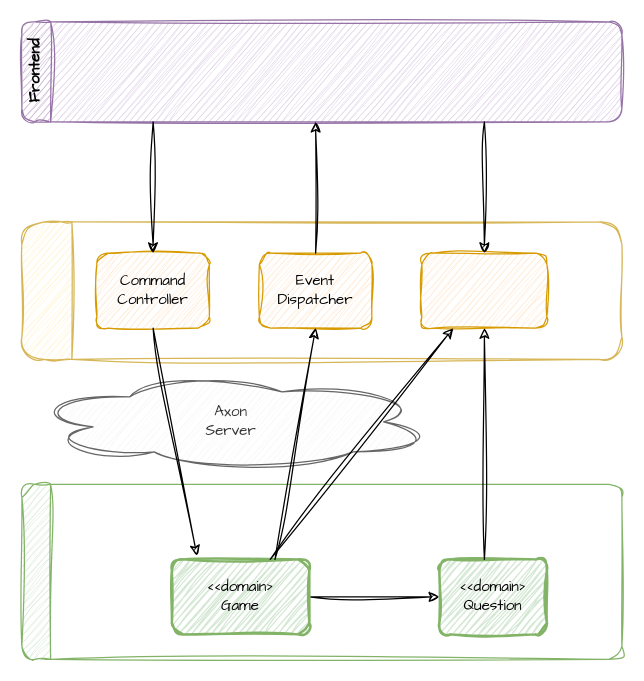
Image size: 644x681. Some labels were removed from this diagram. Each missing label, with the box of its shape:
Backend: (21, 483, 622, 659)
Backend for Frontend: (21, 221, 622, 359)
Basic read models for game selection: (421, 252, 547, 328)
